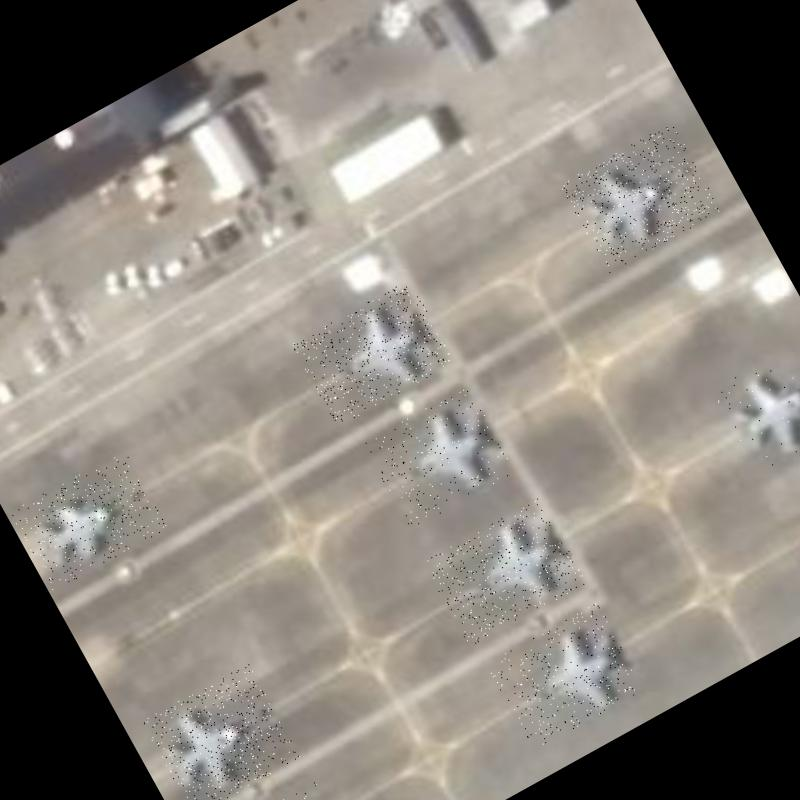A16: (422, 496, 587, 648), (559, 121, 721, 273), (291, 278, 455, 427), (486, 602, 646, 750), (8, 448, 168, 592), (362, 384, 516, 530), (140, 661, 300, 800), (708, 330, 800, 478)
